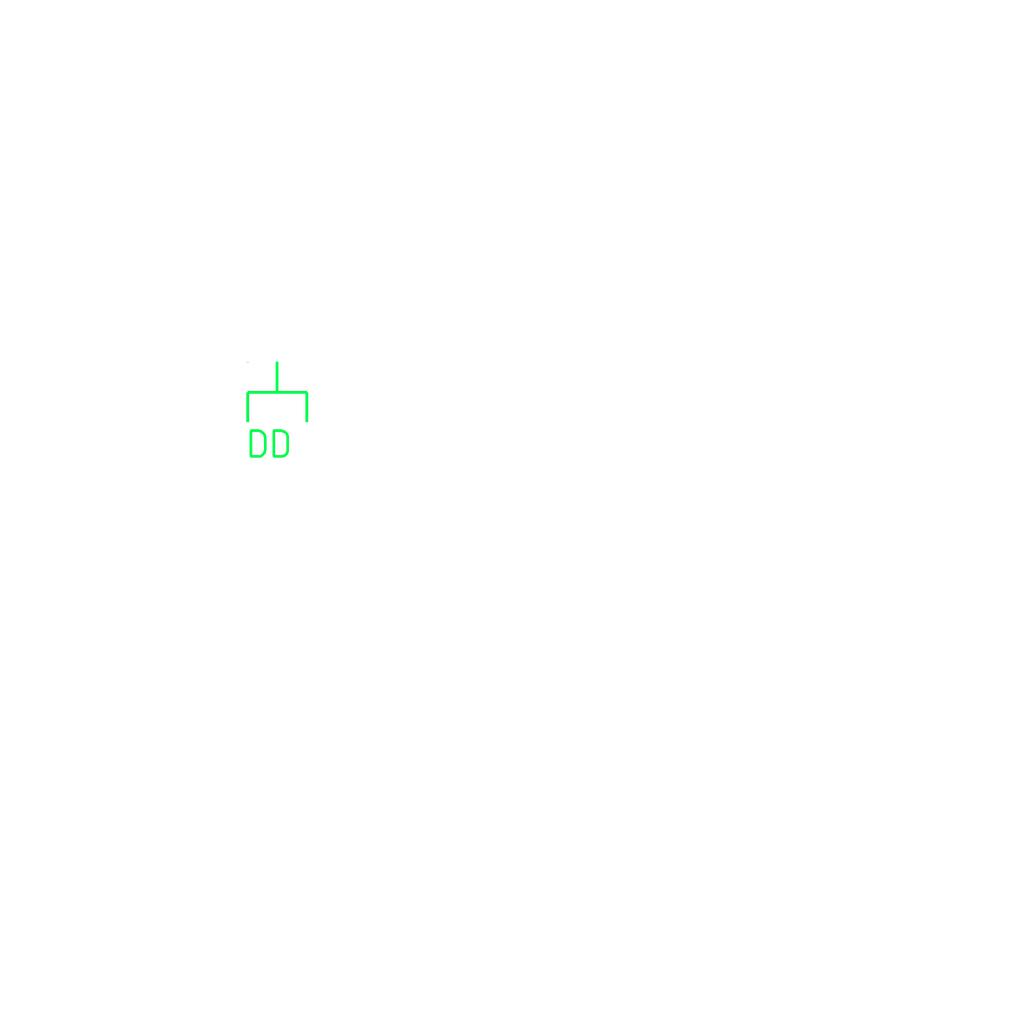Datenanschluss_zweifach: (242, 359, 311, 462)
